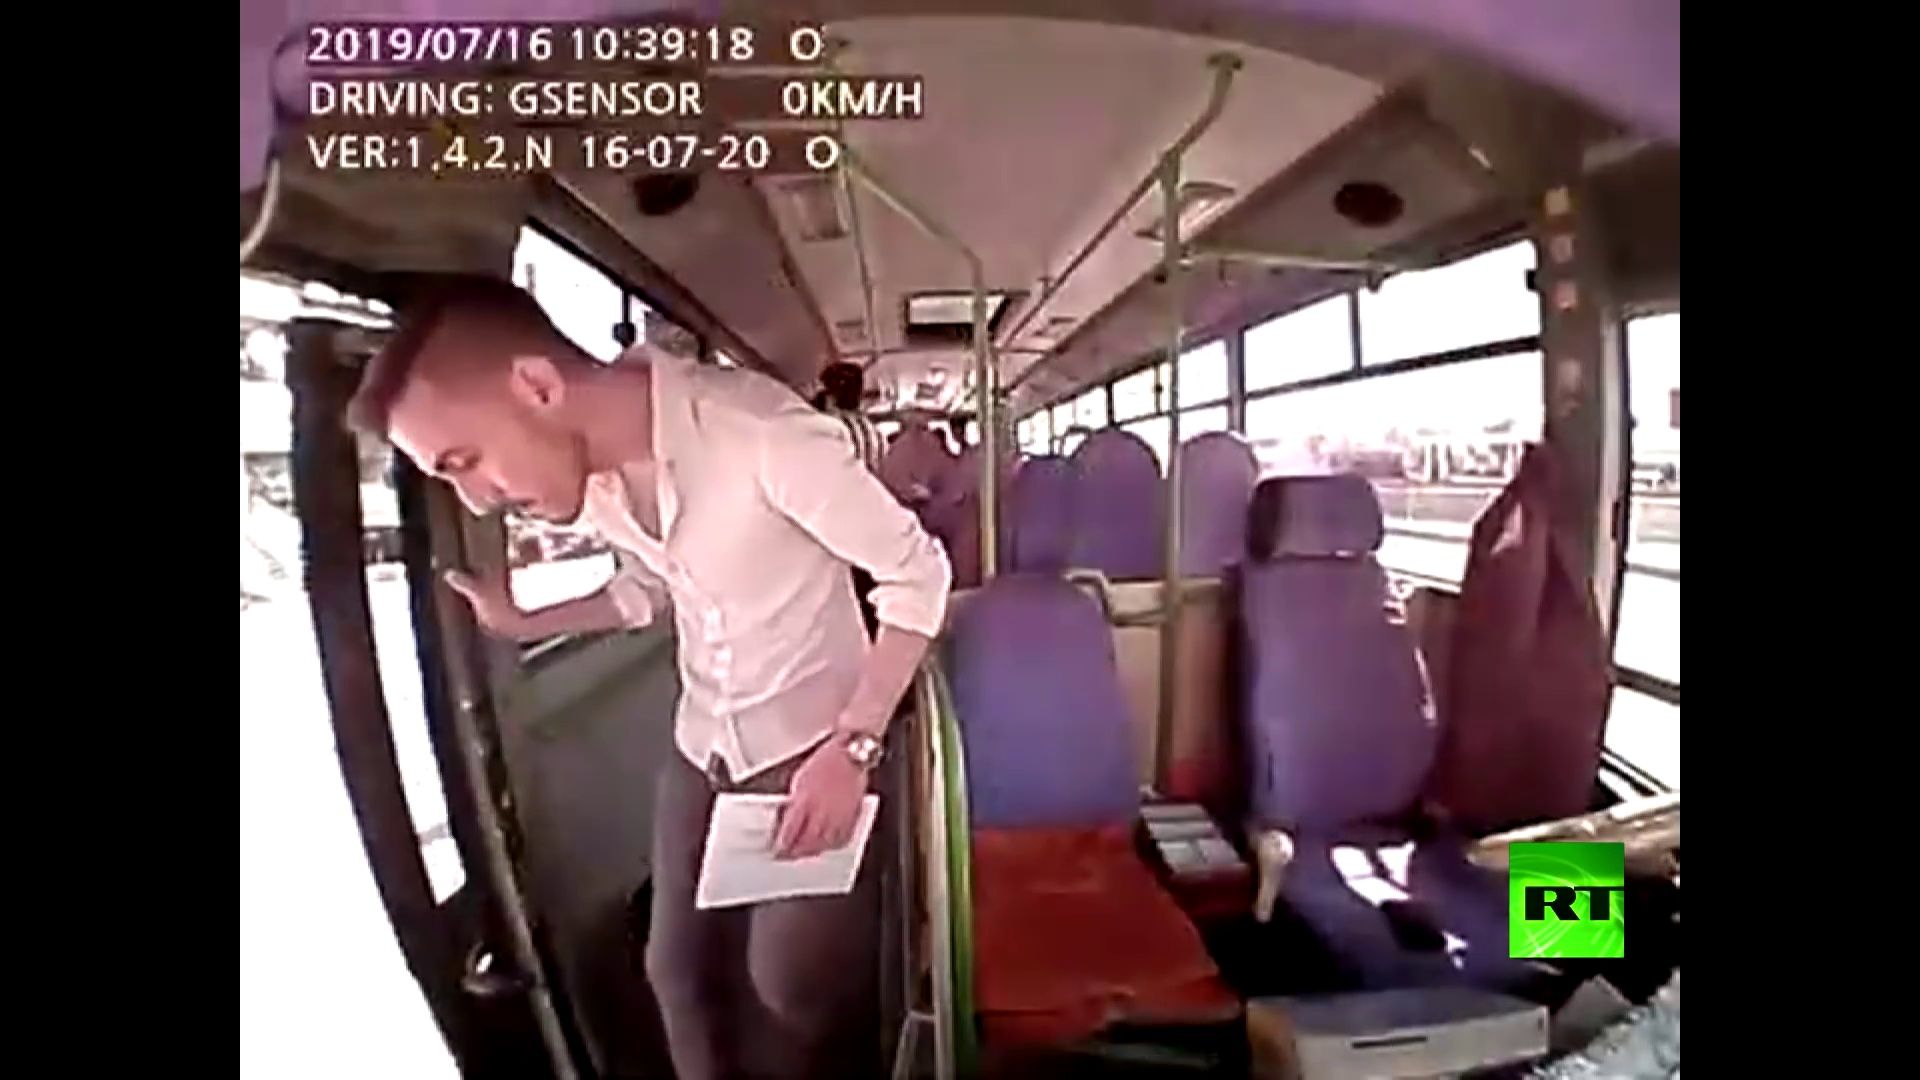face: (361, 370, 566, 543)
